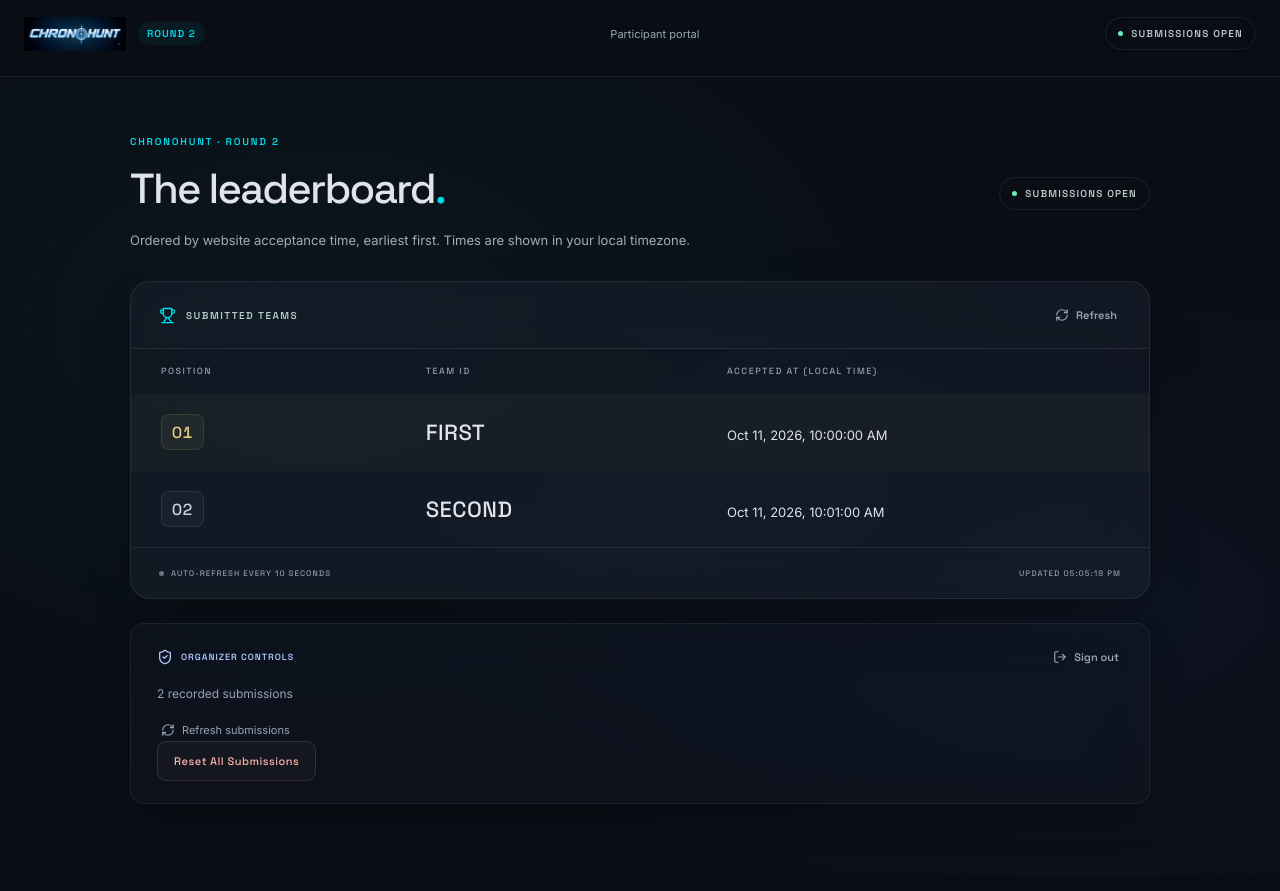
Scenario: simplified participant and leaderboard › cancel does not reset; explicit confirmation clears and refreshes standings
This screenshot has width=1280, height=891.
Expected: the text "FIRST" is shown, [396,394,697,471]
Expected: the text "ORGANIZER CONTROLS" is shown, [157,649,294,665]
What coordinates should you click on to do the following:
click the button "Reset All Submissions"
I would click on:
 (237, 761)
Its box is [157,741,316,781].
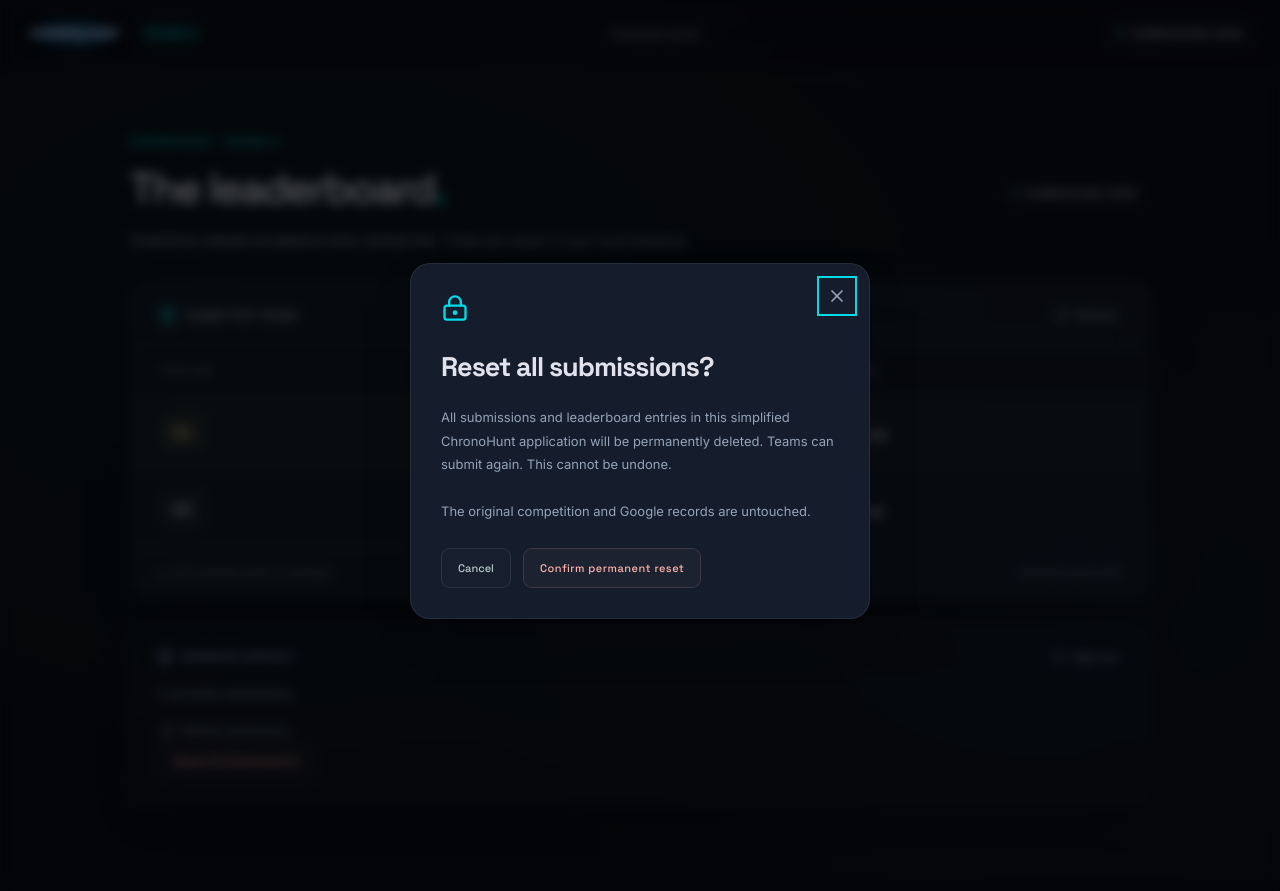
Expected: the text "permanently deleted" is shown, [441,409,834,472]
What coordinates should you click on to do the following:
click the button "Cancel"
I would click on:
 (476, 568)
Its box is [441,548,511,588].
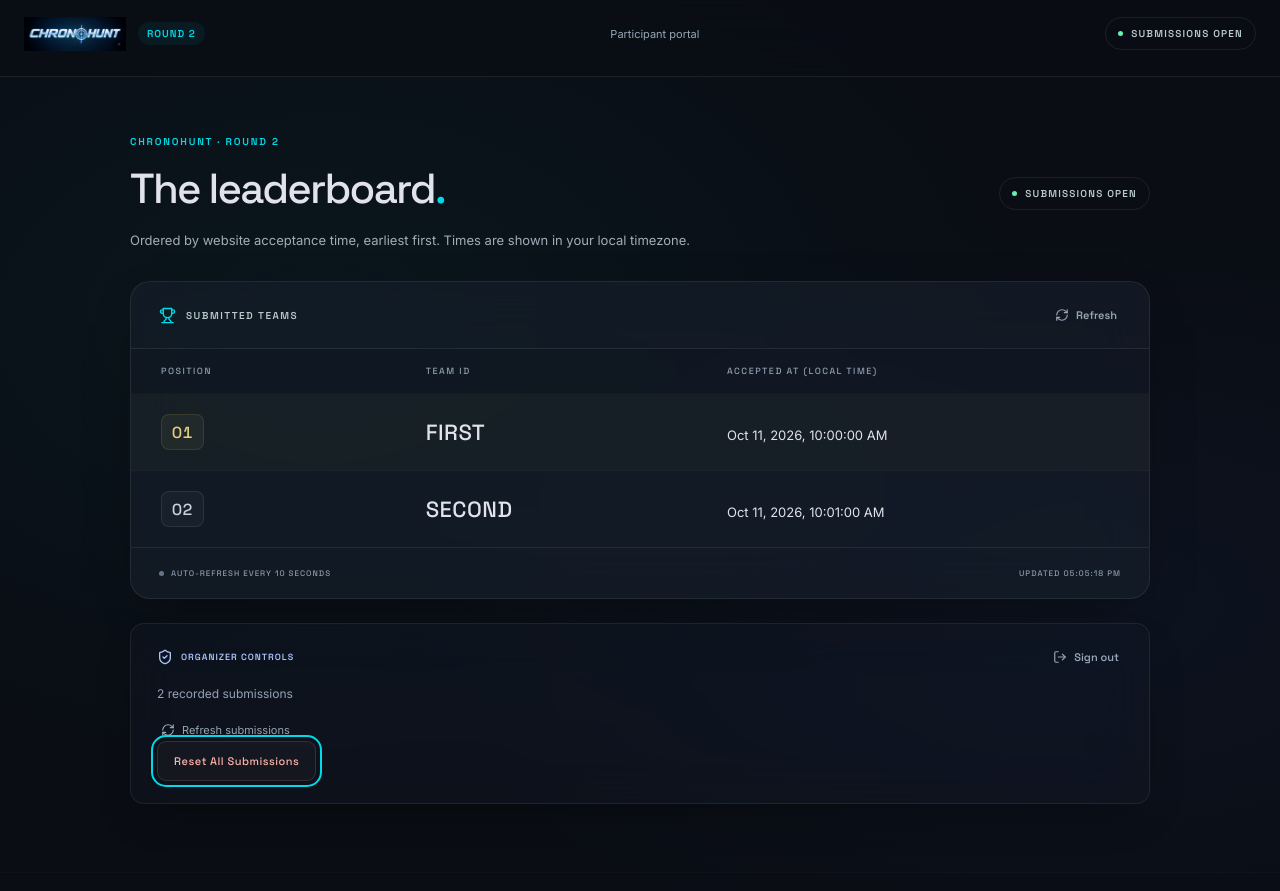
What coordinates should you click on to do the following:
click the button "Reset All Submissions"
I would click on:
 (237, 761)
Its box is [157,741,316,781].
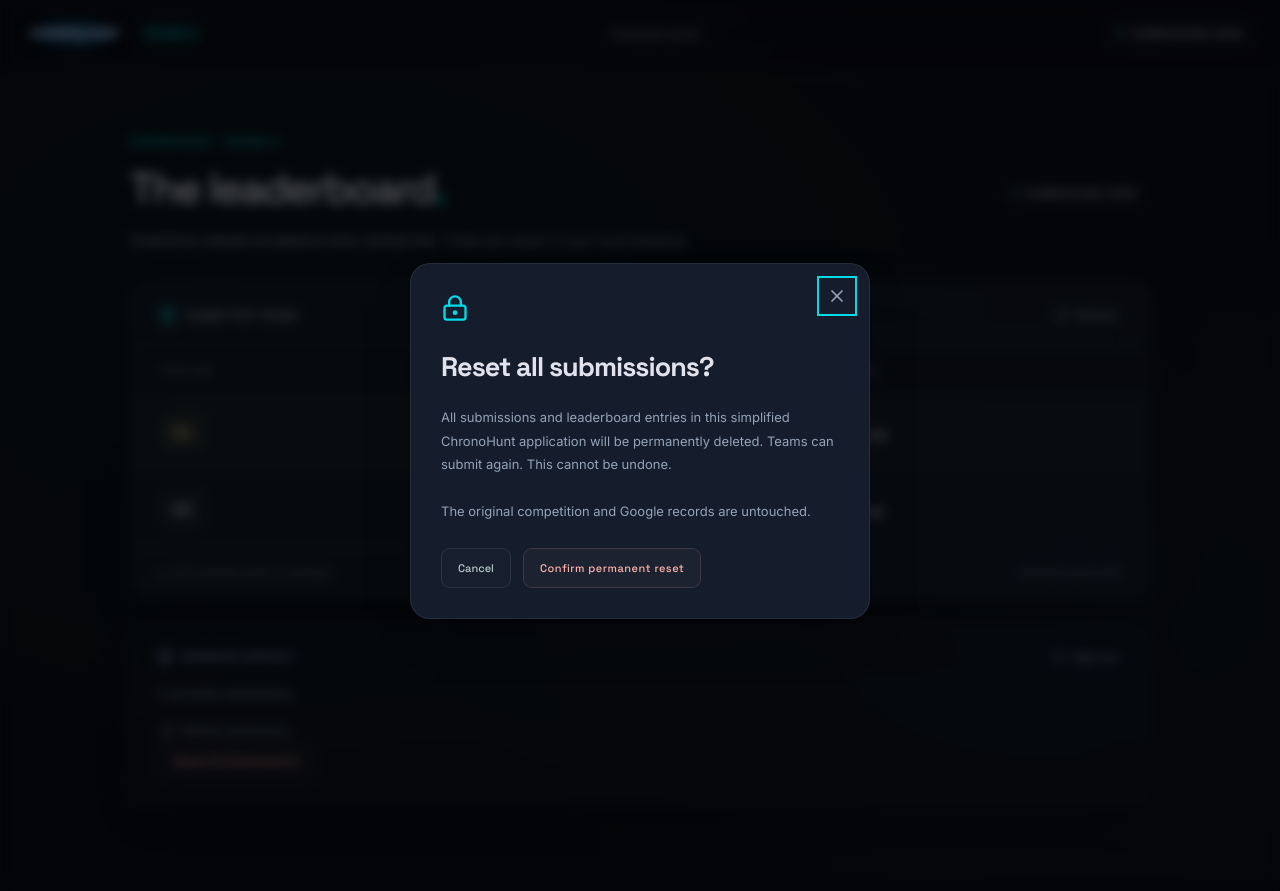
What coordinates should you click on to do the following:
click the button "Confirm permanent reset"
I would click on:
 (612, 568)
Its box is [523,548,701,588].
(page scrolled)
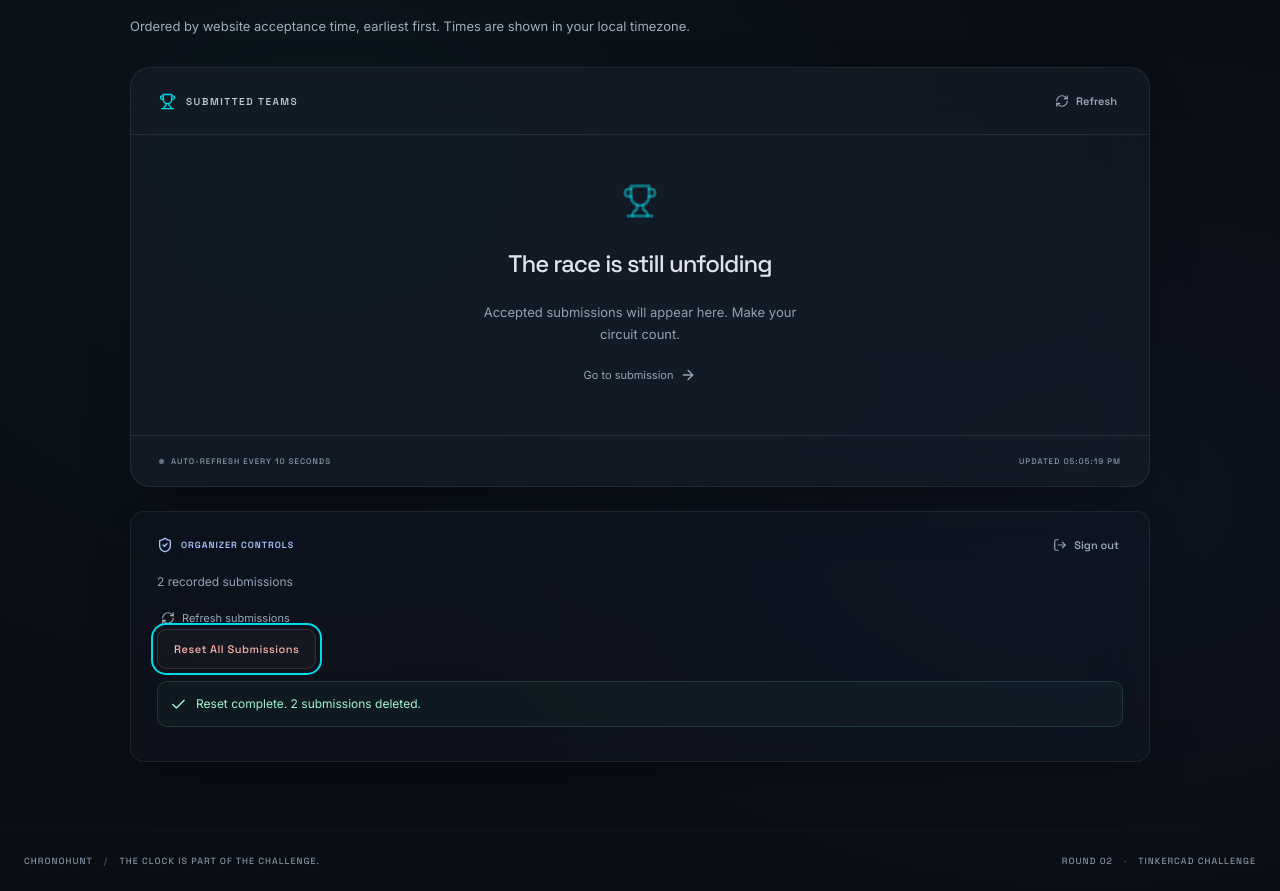
Expected: the text "Reset complete. 2 submissions deleted." is shown, [196,694,421,714]
